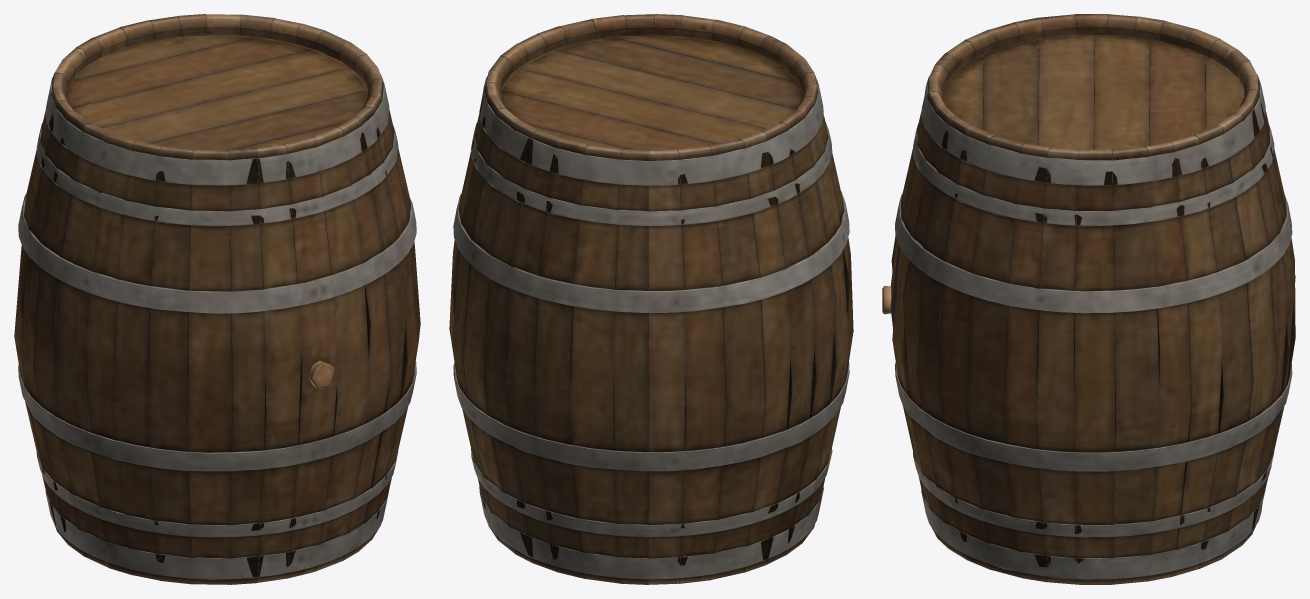
The picture shows the model from 3 angles, left to right: view 1: azimuth 30°, elevation 25°; view 2: azimuth 150°, elevation 25°; view 3: azimuth 270°, elevation 25°; orthographic projection.
Parts seen in each view (by area): view 1: wine_barrel_01_lod1; view 2: wine_barrel_01_lod1; view 3: wine_barrel_01_lod1.
Part boxes in pixels (<box>): wine_barrel_01_lod1: <box>14,14,420,584</box>; wine_barrel_01_lod1: <box>449,14,853,584</box>; wine_barrel_01_lod1: <box>882,14,1295,584</box>.
Bounding box in the file's own units: 0.7366 × 0.8713 × 0.7534.
1 material, 1 textured.
